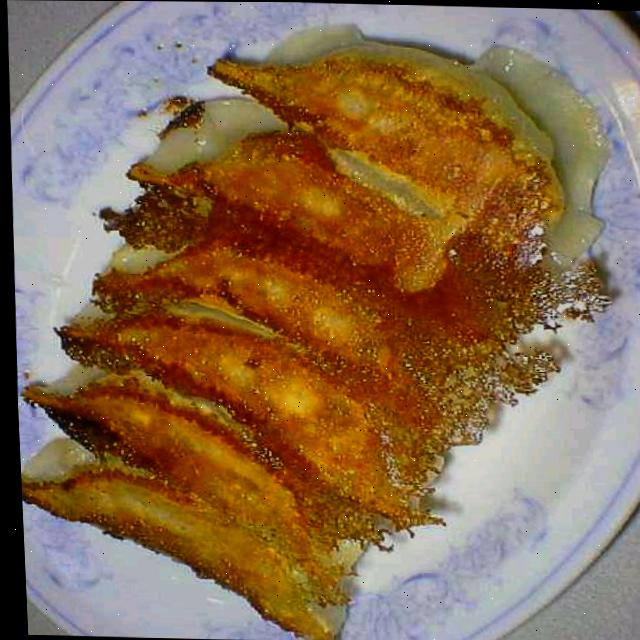带馅早点: (17, 0, 602, 640)
